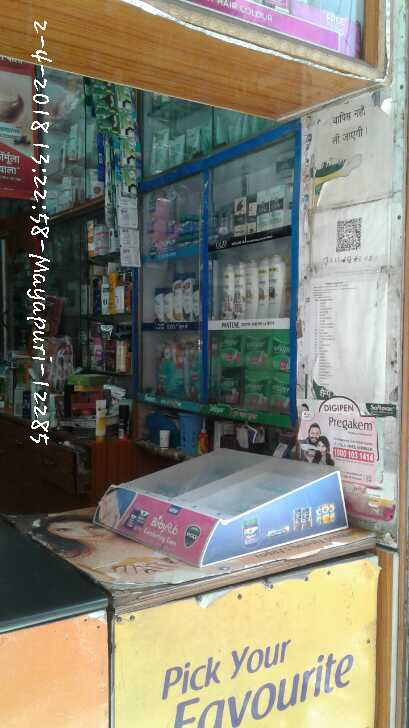vicks: (149, 194, 202, 238)
